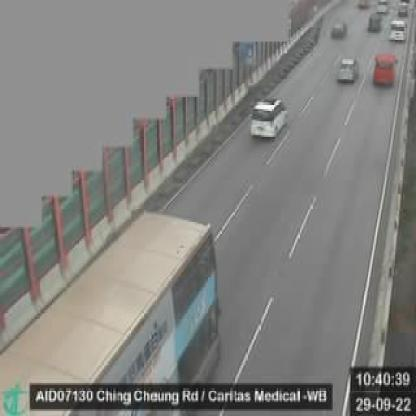Bus: (0, 205, 230, 414)
Car: (247, 92, 293, 144), (368, 49, 400, 90), (332, 54, 362, 90), (386, 16, 406, 46), (328, 19, 348, 40), (367, 10, 381, 33)
